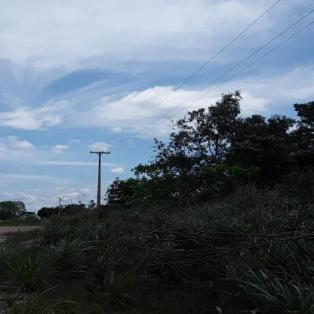Poste: (96, 151, 102, 208)
